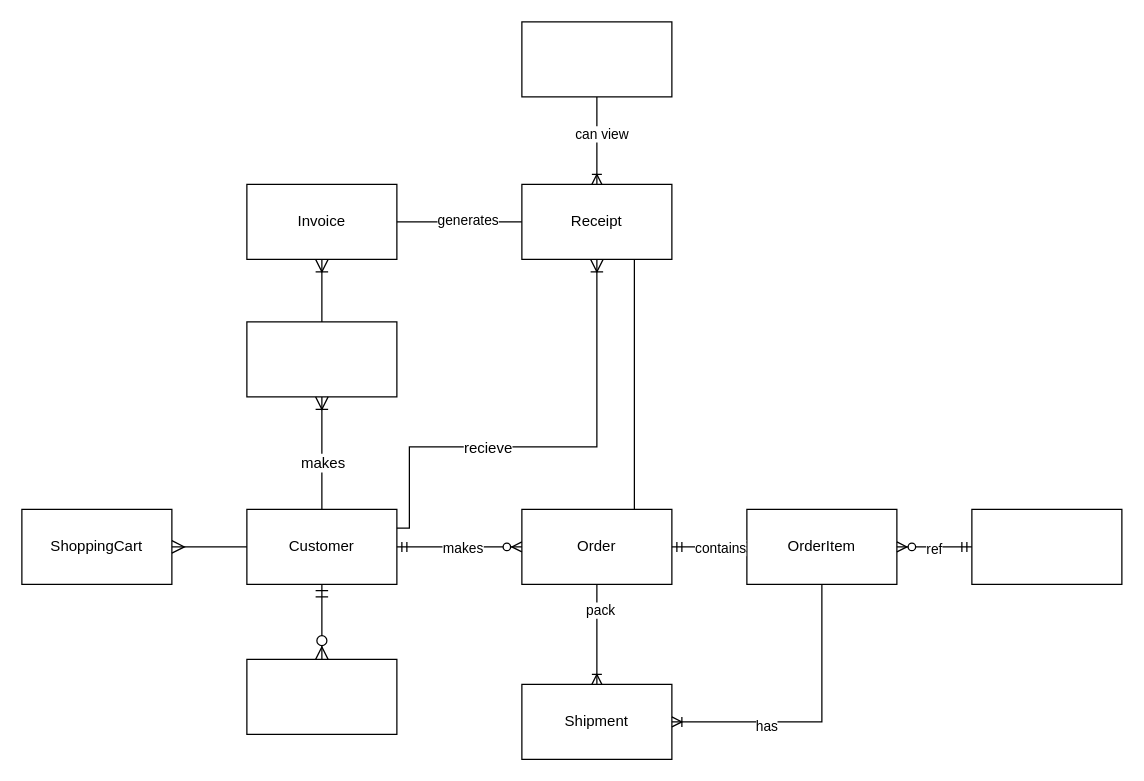
The diagram is 1144 pixels wide and 781 high, and some of its shapes have lost their labels. Each missing label, with the centre of its shape:
"Account" goes at [321,696].
"Payment" goes at [321,359].
"Product" goes at [1046,546].
"Staff" goes at [596,59].
